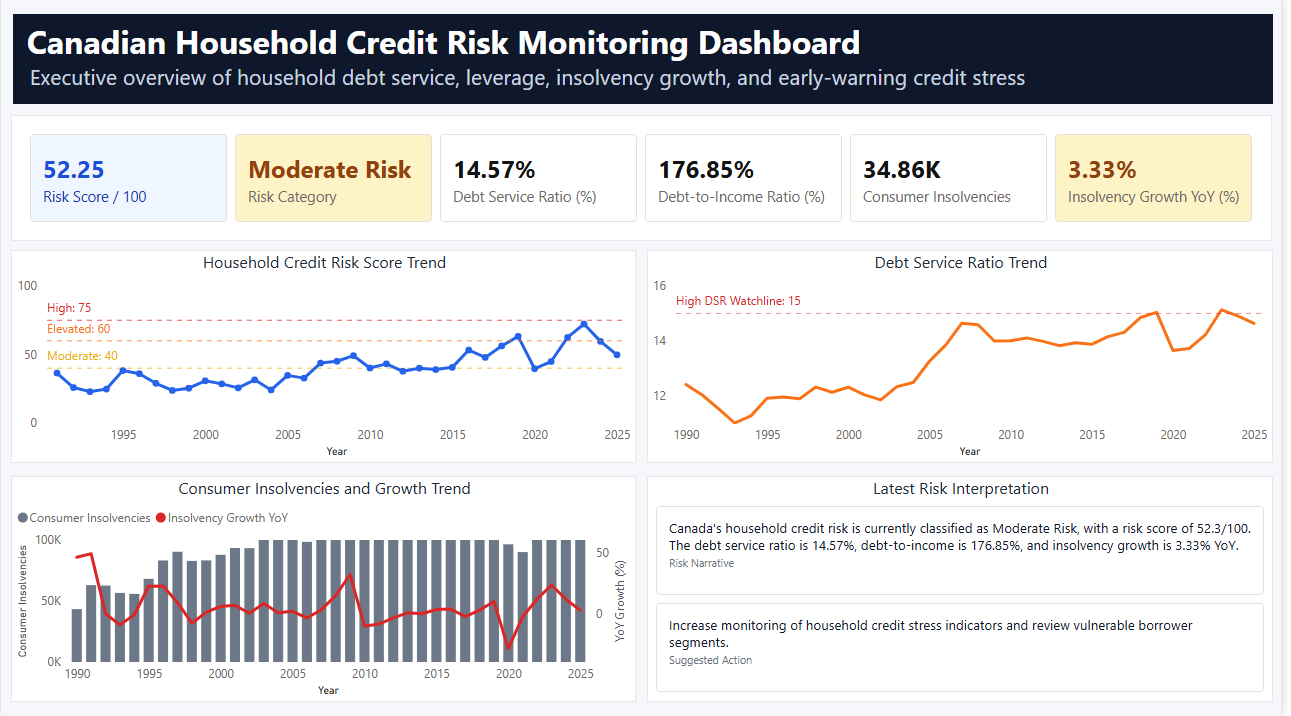

What the dashboard file says about the page in this screenshot:
{"tool":"powerbi","page":{"name":"Executive Risk Overview","canvas":[1280,720],"ordinal":0},"visuals":[{"type":"shape","box":[11.9,17.8,1259.8,90.4],"z":0},{"type":"textbox","box":[11.9,17.8,1250.3,90.4],"z":1000},{"type":"cardVisual","fields":{"Data":["powerbi_canada_credit_risk_dashboard.Latest Risk Score","powerbi_canada_credit_risk_dashboard.Latest Risk Category","powerbi_canada_credit_risk_dashboard.Latest DSR","powerbi_canada_credit_risk_dashboard.Latest Debt to Income","powerbi_canada_credit_risk_dashboard.Latest Consumer Insolvencies","powerbi_canada_credit_risk_dashboard.Latest Insolvency Growth YoY"]},"box":[10.2,119.5,1260.9,125.8],"z":2000},{"type":"lineChart","title":"Household Credit Risk Score Trend","fields":{"Category":["powerbi_canada_credit_risk_dashboard.date.Variation.Date Hierarchy.Year","powerbi_canada_credit_risk_dashboard.date.Variation.Date Hierarchy.Quarter","powerbi_canada_credit_risk_dashboard.date.Variation.Date Hierarchy.Month","powerbi_canada_credit_risk_dashboard.date.Variation.Date Hierarchy.Day"],"Y":["Avg(powerbi_canada_credit_risk_dashboard.risk_score)"]},"box":[10,254,625,213],"z":3000},{"type":"lineChart","title":"Debt Service Ratio Trend","fields":{"Category":["powerbi_canada_credit_risk_dashboard.date.Variation.Date Hierarchy.Year","powerbi_canada_credit_risk_dashboard.date.Variation.Date Hierarchy.Quarter","powerbi_canada_credit_risk_dashboard.date.Variation.Date Hierarchy.Month","powerbi_canada_credit_risk_dashboard.date.Variation.Date Hierarchy.Day"],"Y":["Avg(powerbi_canada_credit_risk_dashboard.debt_service_ratio)"]},"box":[646,254,626,213],"z":4000},{"type":"lineStackedColumnComboChart","title":"Consumer Insolvencies and Growth Trend","fields":{"Category":["powerbi_canada_credit_risk_dashboard.date.Variation.Date Hierarchy.Year","powerbi_canada_credit_risk_dashboard.date.Variation.Date Hierarchy.Quarter","powerbi_canada_credit_risk_dashboard.date.Variation.Date Hierarchy.Month","powerbi_canada_credit_risk_dashboard.date.Variation.Date Hierarchy.Day"],"Y2":["Avg(powerbi_canada_credit_risk_dashboard.insolvency_growth_yoy)"],"Y":["Sum(powerbi_canada_credit_risk_dashboard.consumer_insolvencies)"]},"box":[10,480,625,226],"z":5000},{"type":"cardVisual","title":"Latest Risk Interpretation","fields":{"Data":["powerbi_canada_credit_risk_dashboard.Latest Short Risk Narrative","powerbi_canada_credit_risk_dashboard.Latest Suggested Action Clean"]},"box":[646,480,626,226],"z":6000}]}

Visuals, with their boxes in screenshot pixels (x1, y1, x2, y2), scaled from the page's 1280x720 canvas onto the 1291x716 screenshot:
shape: box(12, 18, 1283, 108)
textbox: box(12, 18, 1273, 108)
cardVisual - powerbi_canada_credit_risk_dashboard.Latest Risk Score x powerbi_canada_credit_risk_dashboard.Latest Risk Category: box(10, 119, 1282, 244)
"Household Credit Risk Score Trend" lineChart: box(10, 253, 640, 464)
"Debt Service Ratio Trend" lineChart: box(652, 253, 1283, 464)
"Consumer Insolvencies and Growth Trend" lineStackedColumnComboChart: box(10, 477, 640, 702)
"Latest Risk Interpretation" cardVisual: box(652, 477, 1283, 702)
